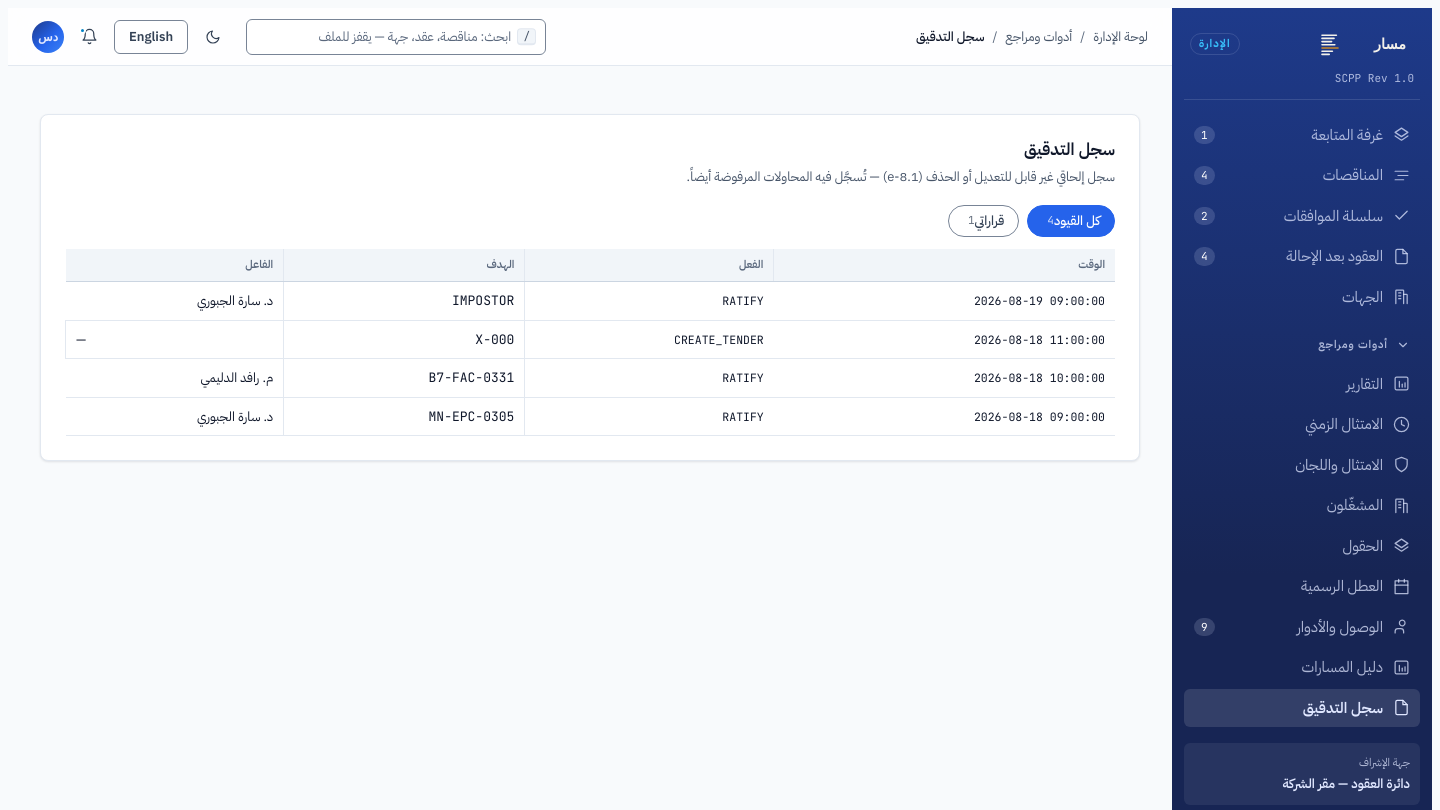
Test case: «سجل قراراتي» is a filter on the durable trail, not a session memory (ل4 / س‌ل5) › matches on the oid, never on the display name
This screenshot has width=1440, height=810.
What coordinates should you click on to do the following:
click the button "قراراتي 1"
I would click on:
 (984, 221)
Its box is [948,205,1019,237].
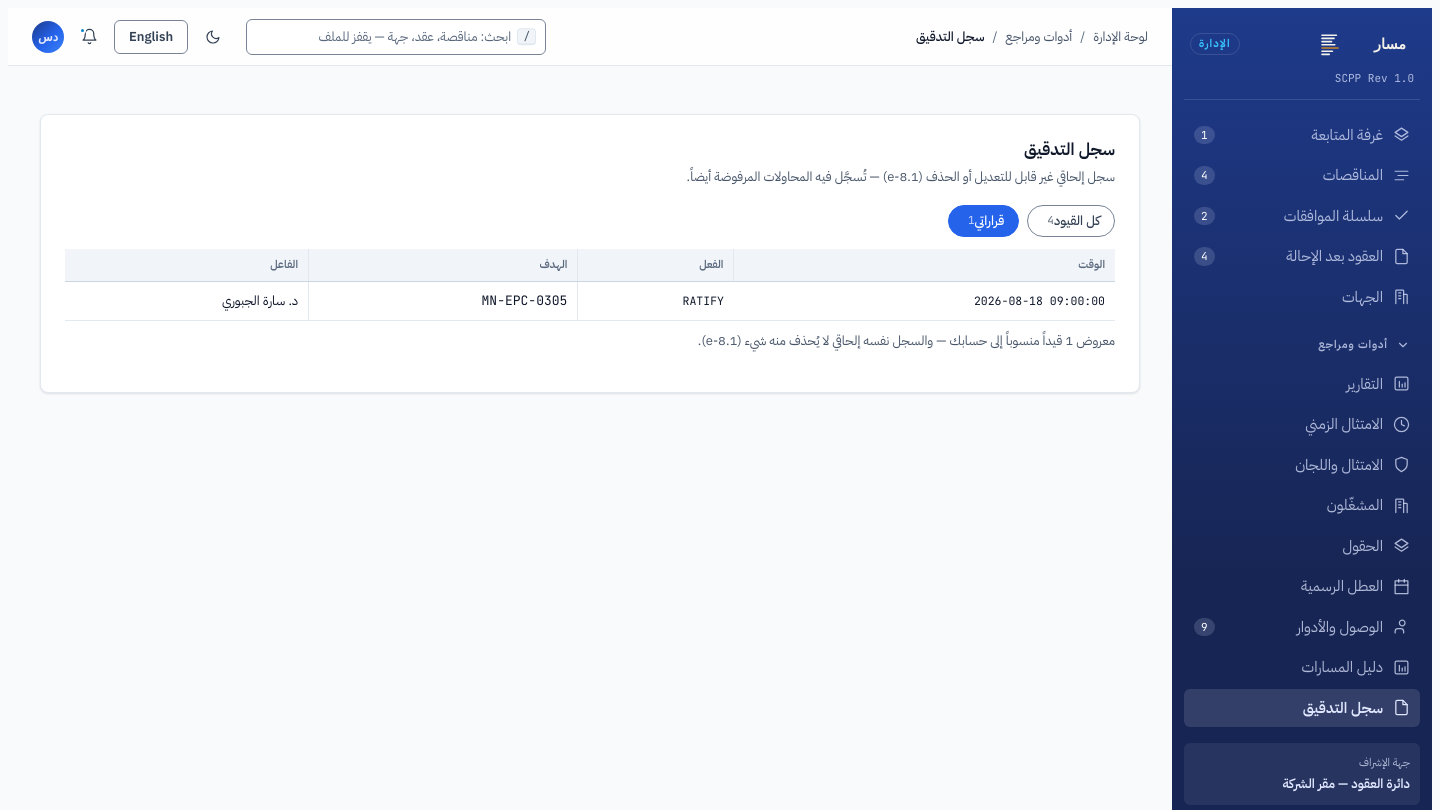
expect the text "IMPOSTOR" is gone: met
